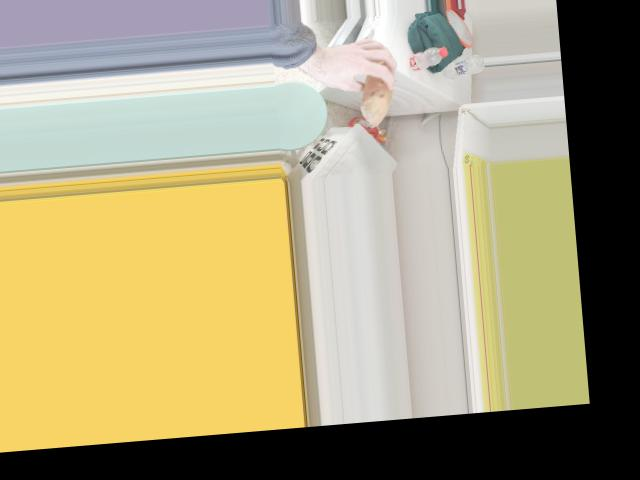sweet_potato: (357, 53, 394, 124)
